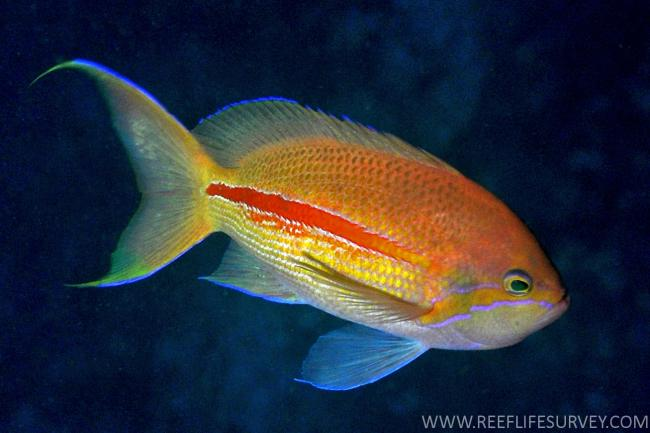fish: (32, 58, 570, 390)
